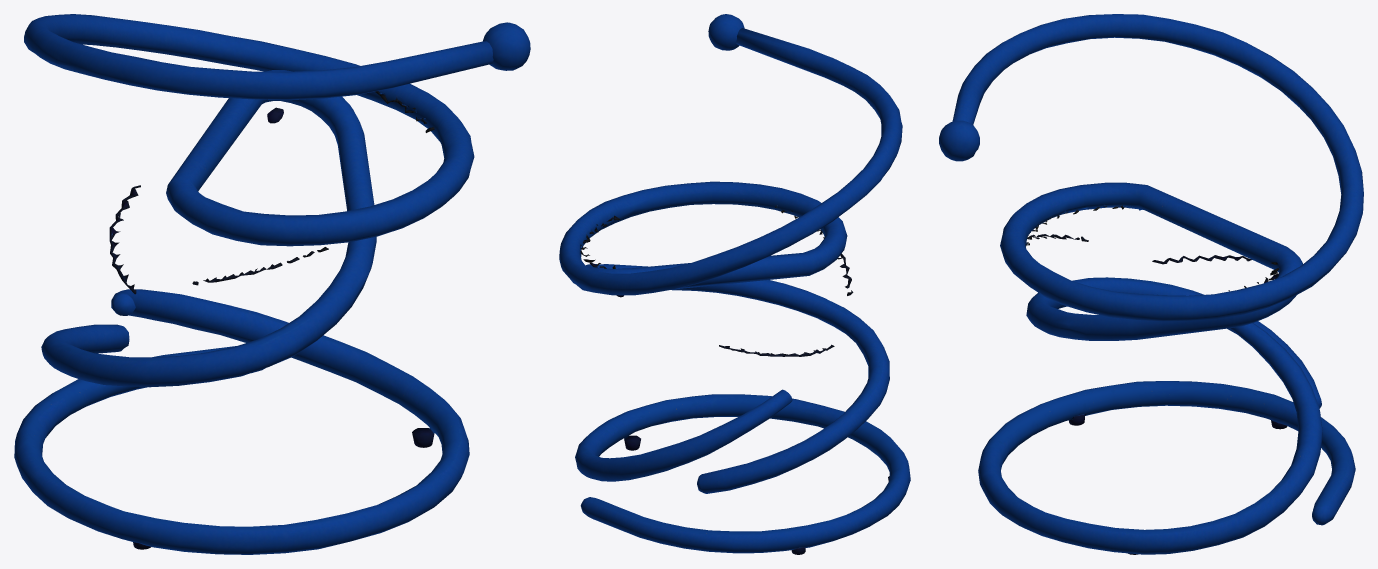
Rendered from spiral_blue.glb.
3 views of the same model, side by side, from view 1: azimuth 30°, elevation 25°; view 2: azimuth 150°, elevation 25°; view 3: azimuth 270°, elevation 25° (orthographic). The views are drawn at different scales.
Visible parts, largest first — view 1: tripo_node_1cc8bebc-9252-4c9b-8024-6184e3e73e49; view 2: tripo_node_1cc8bebc-9252-4c9b-8024-6184e3e73e49; view 3: tripo_node_1cc8bebc-9252-4c9b-8024-6184e3e73e49.
Part boxes in pixels (bbox=[...]): tripo_node_1cc8bebc-9252-4c9b-8024-6184e3e73e49: bbox=[14, 14, 530, 554]; tripo_node_1cc8bebc-9252-4c9b-8024-6184e3e73e49: bbox=[559, 14, 910, 554]; tripo_node_1cc8bebc-9252-4c9b-8024-6184e3e73e49: bbox=[939, 14, 1363, 554].
Bounding box in the file's own units: 0.8418 × 0.998 × 0.9121.
1 material, 1 textured.
